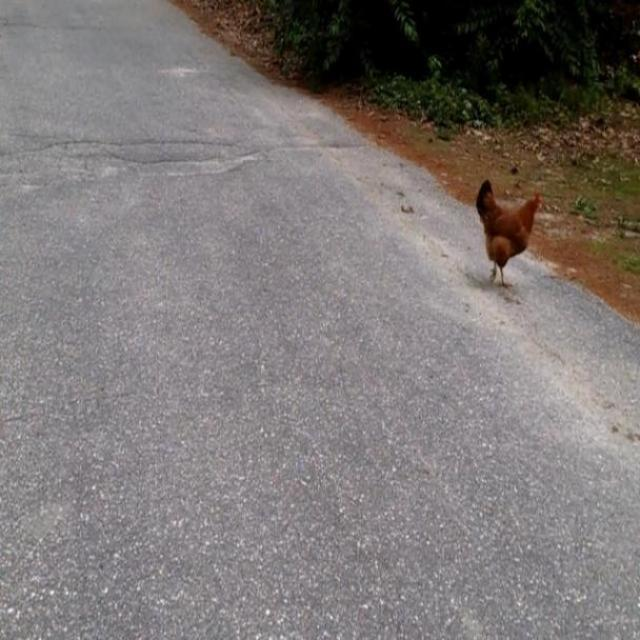Chicken: (476, 179, 542, 290)
